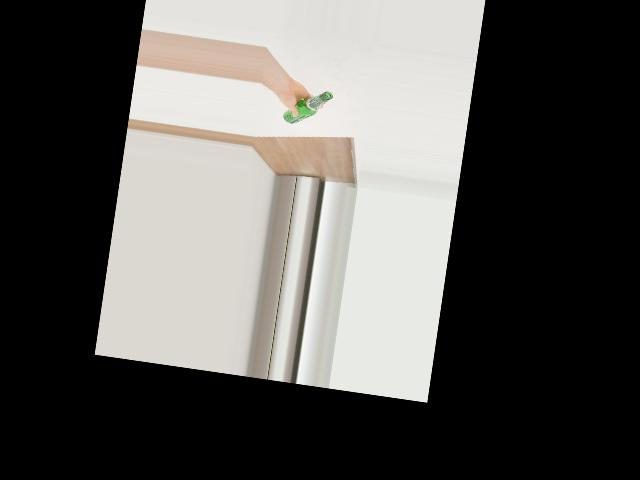beer: (282, 84, 333, 128)
